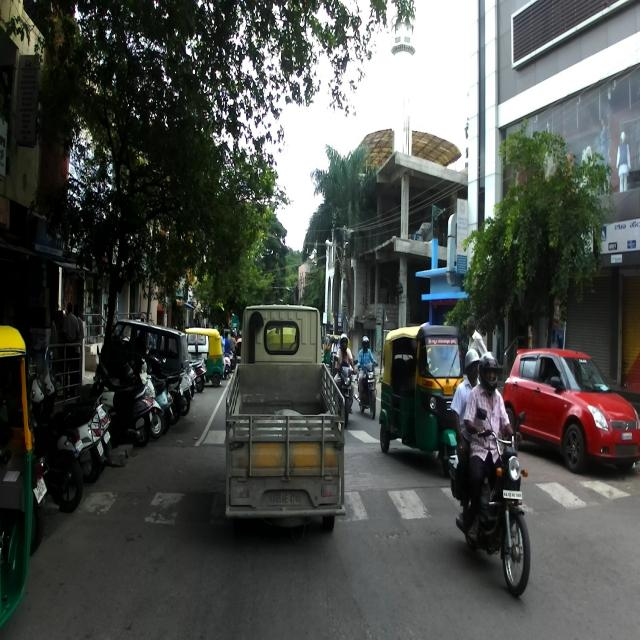autorickshaw: (375, 324, 462, 478)
car: (502, 345, 639, 474), (96, 318, 189, 406)
motorcycle: (448, 407, 532, 598)
scooter: (58, 398, 106, 490), (111, 378, 149, 447), (145, 354, 166, 440), (93, 394, 114, 469), (160, 372, 177, 428), (193, 357, 207, 391)
truck: (222, 303, 346, 536)
